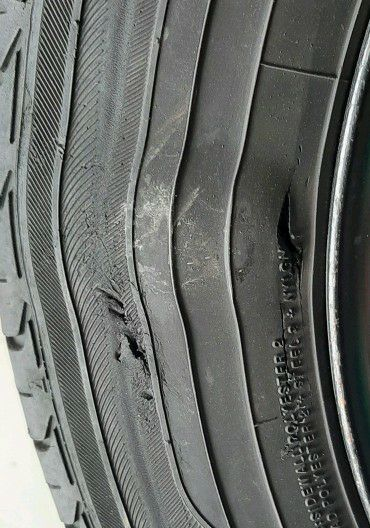CBU: (54, 143, 289, 334)
cut: (91, 282, 155, 430)
